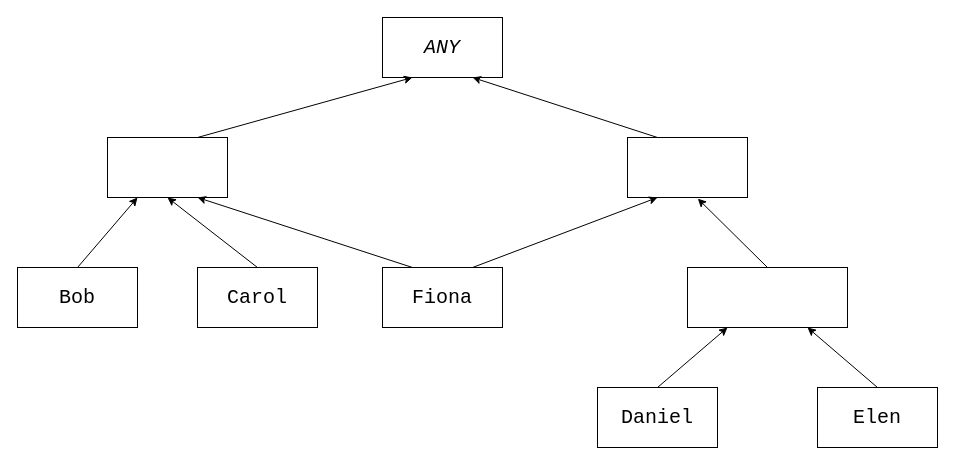
Image size: 955x465. Some labels were removed from this diagram. Each missing label, with the box of its shape:
Amici: (106, 136, 228, 198)
Colleghi: (626, 136, 748, 198)
TeamProgetto: (686, 266, 848, 328)
